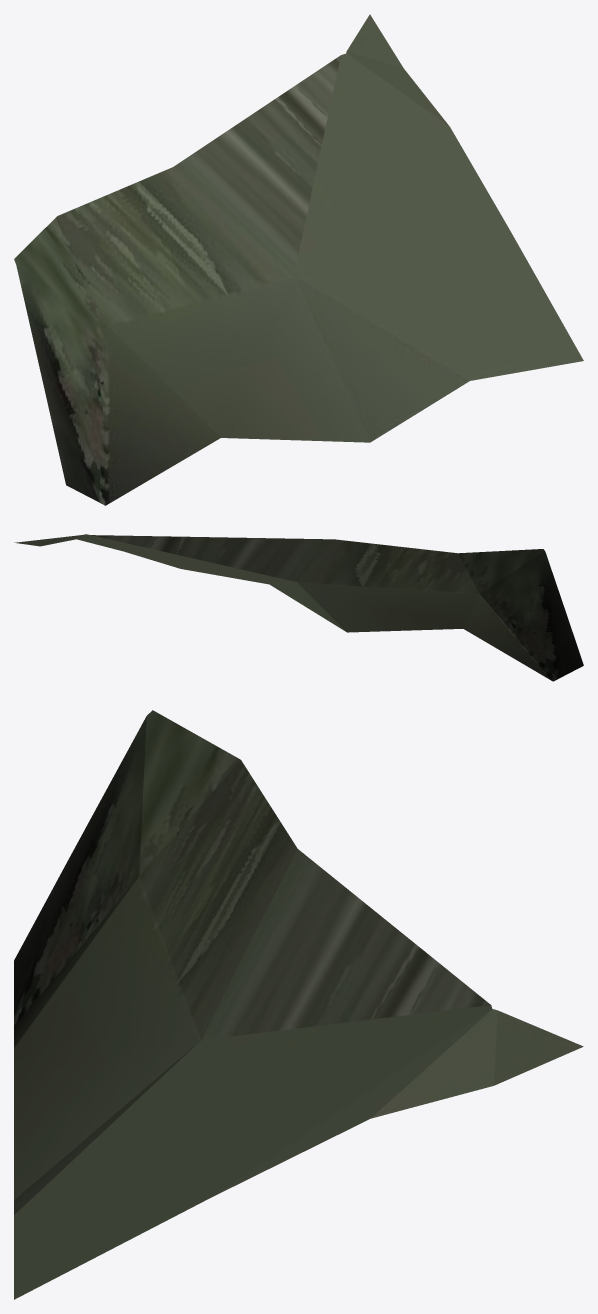
The picture shows the model from 3 angles, top to bottom: view 1: azimuth 30°, elevation 25°; view 2: azimuth 150°, elevation 25°; view 3: azimuth 270°, elevation 25°; orthographic projection. The views are drawn at different scales.
Bounding box in the file's own units: 2.95 × 1.2 × 2.11.
2 materials, 2 textured.
